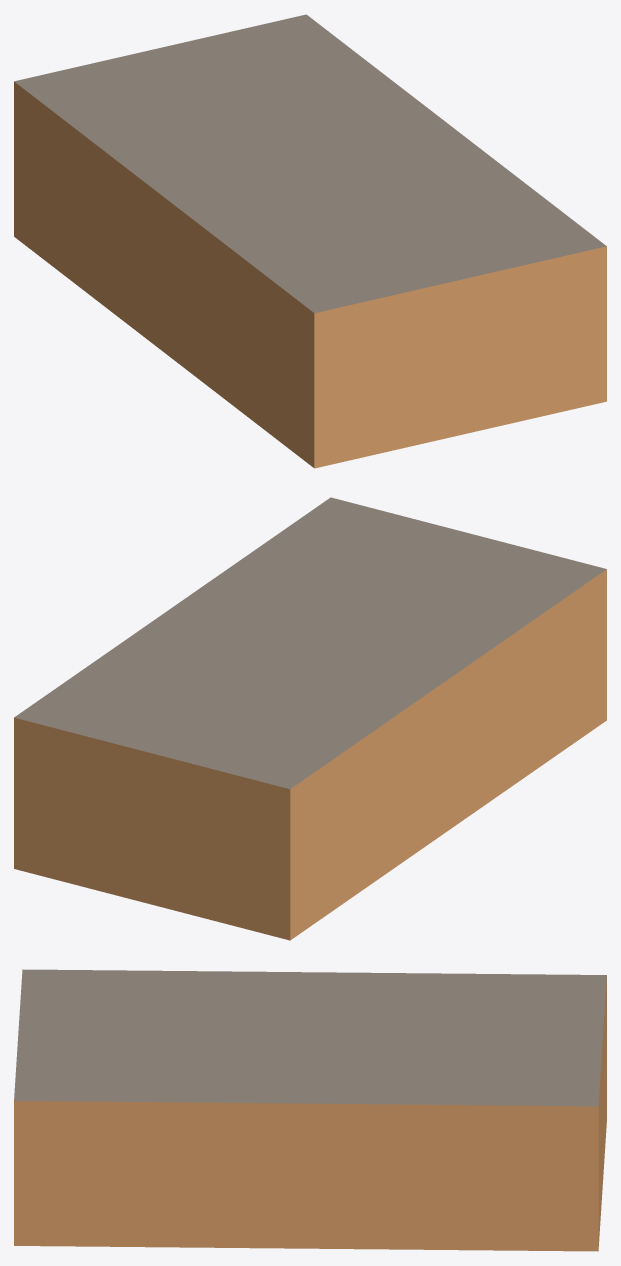
3 renders of one model, top to bottom at view 1: azimuth 30°, elevation 25°; view 2: azimuth 150°, elevation 25°; view 3: azimuth 270°, elevation 25°, orthographic. The views are drawn at different scales.
Parts seen in each view (by area): view 1: element.009; view 2: element.009; view 3: element.009.
Part boxes in pixels (box(x1,y1,x2,y2)): element.009: box(14, 14, 606, 468); element.009: box(14, 497, 606, 940); element.009: box(14, 969, 606, 1251).
Bounding box in the file's own units: 8.51 × 4.21 × 15.58.
